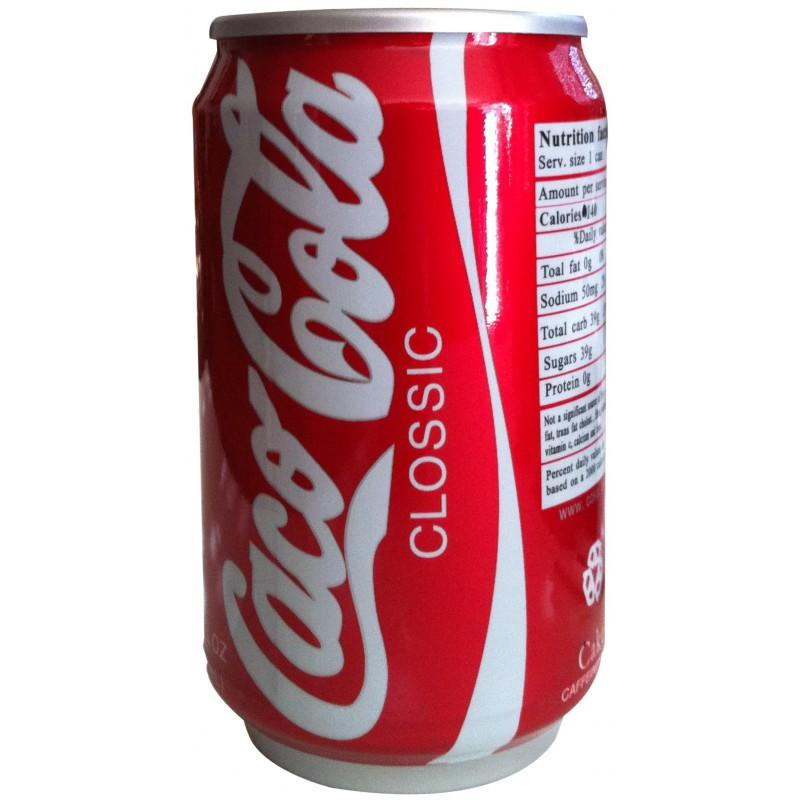metal: (193, 8, 608, 794)
